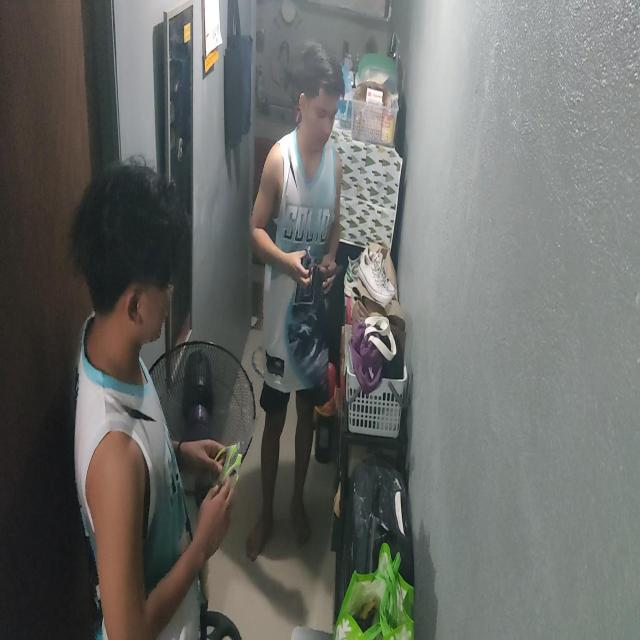scissor: (215, 412, 262, 494)
